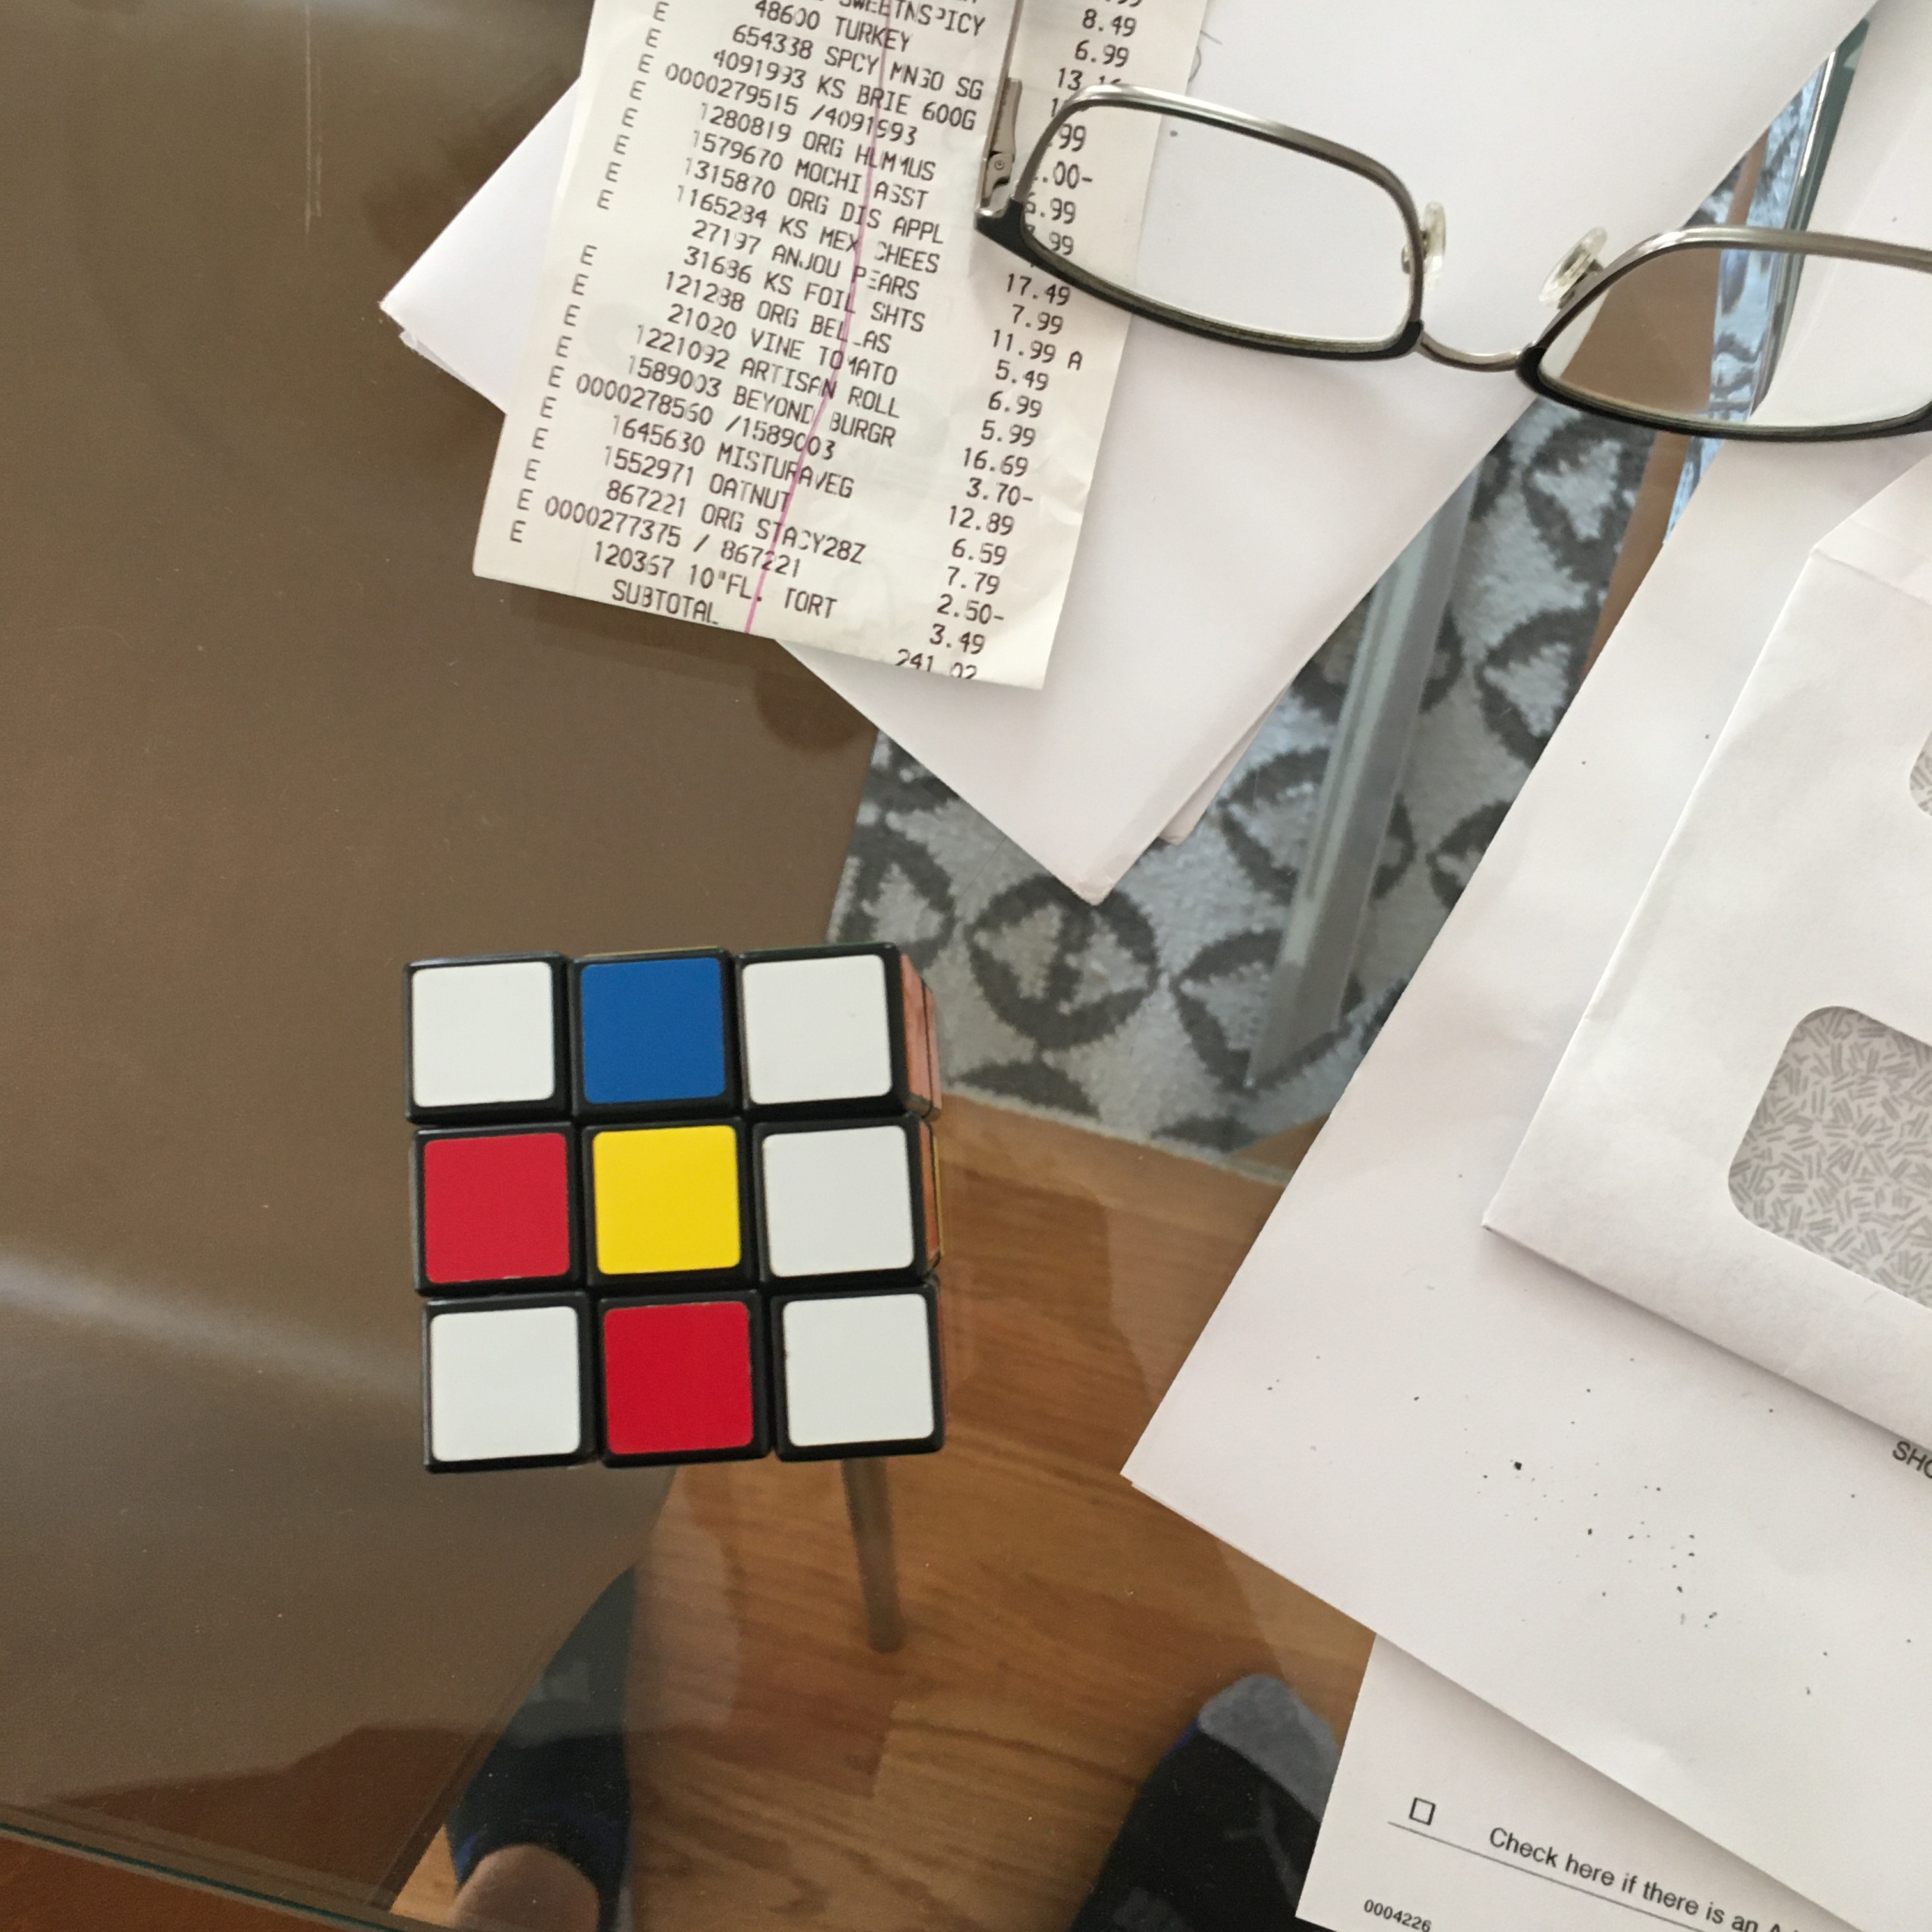face: (408, 950, 946, 1466)
